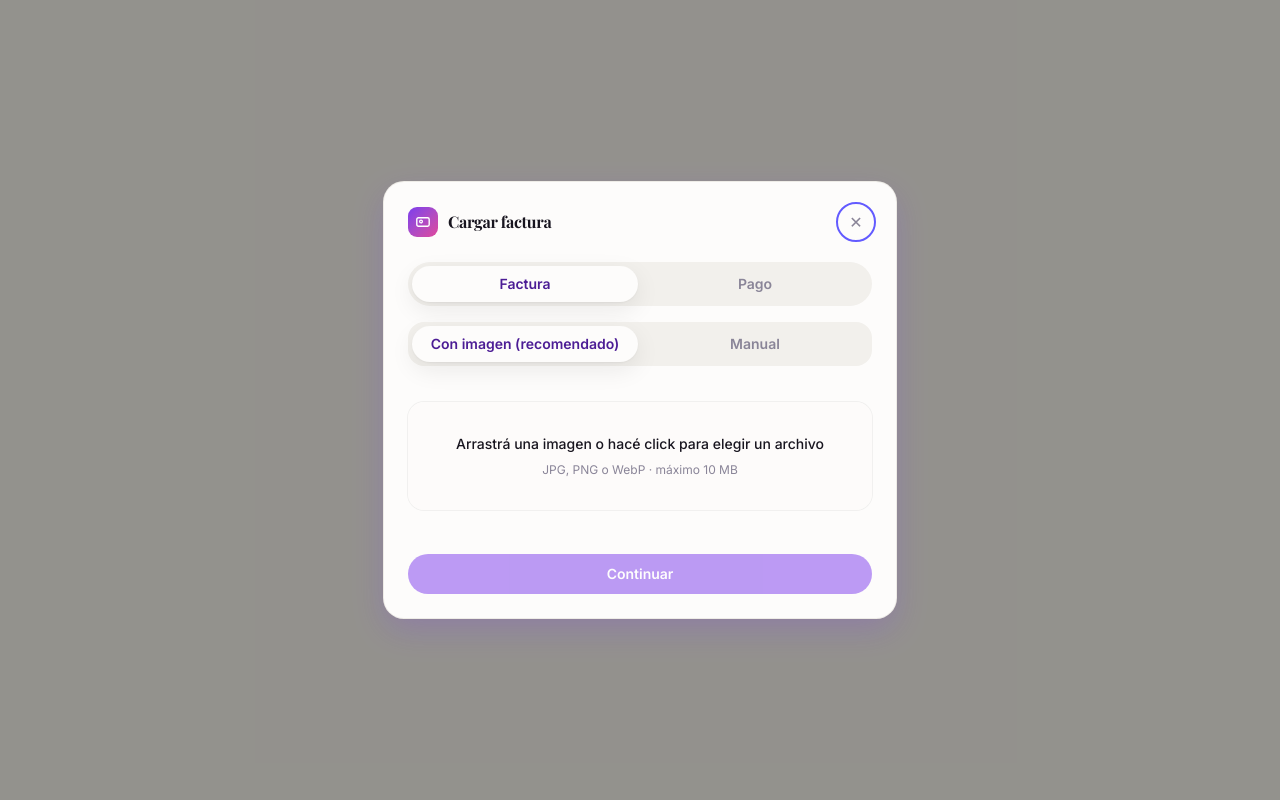
Test case: CargaModal — basic render and origen step › toggling to Pago updates the title
Click the button "Pago".
click(755, 284)  # box [642,266,868,302]
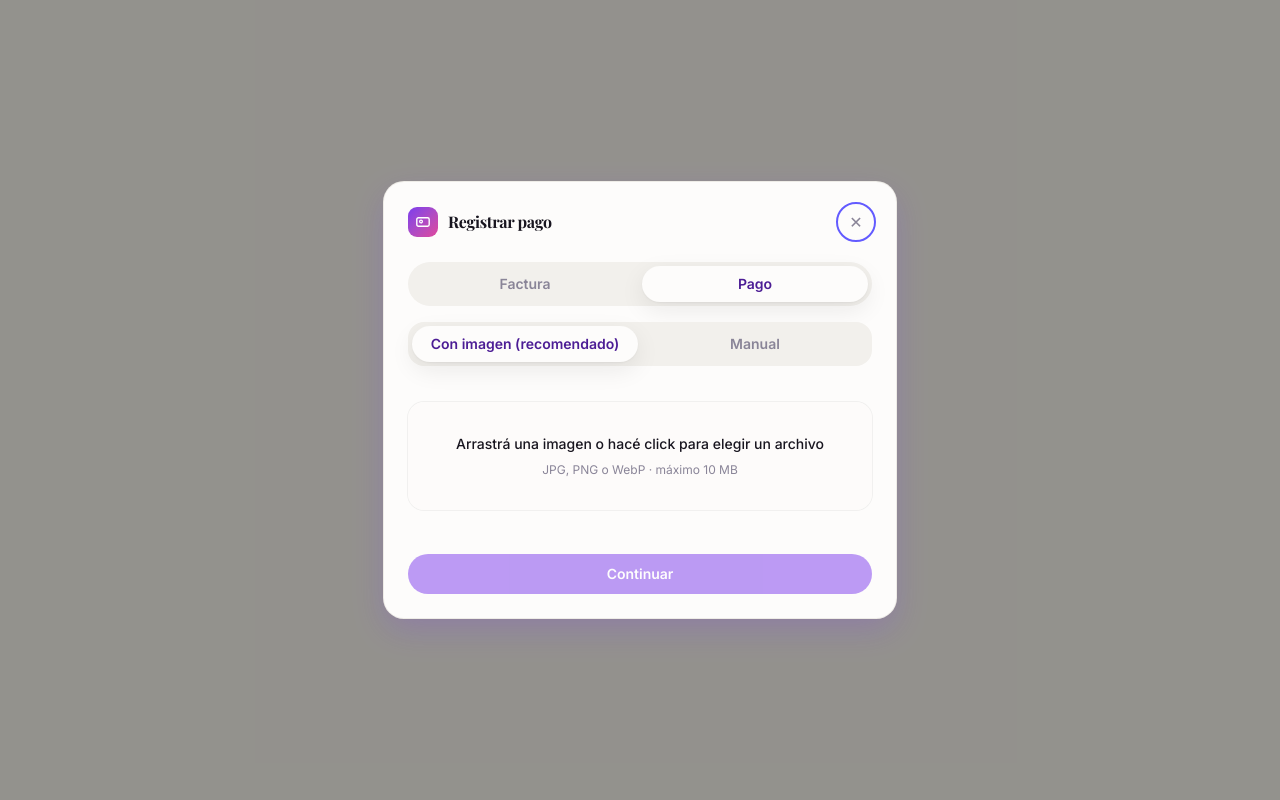
Expected: the heading "Registrar pago" is shown, [448,210,552,234]
